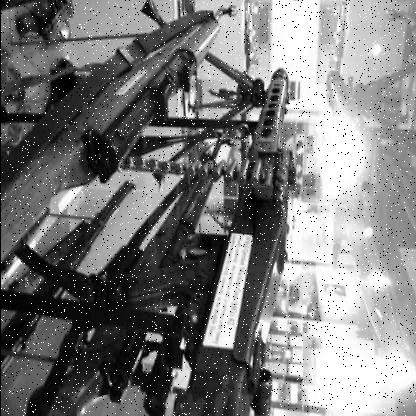rifle: (1, 1, 234, 274), (47, 125, 234, 415), (177, 41, 321, 415), (1, 176, 138, 374)
